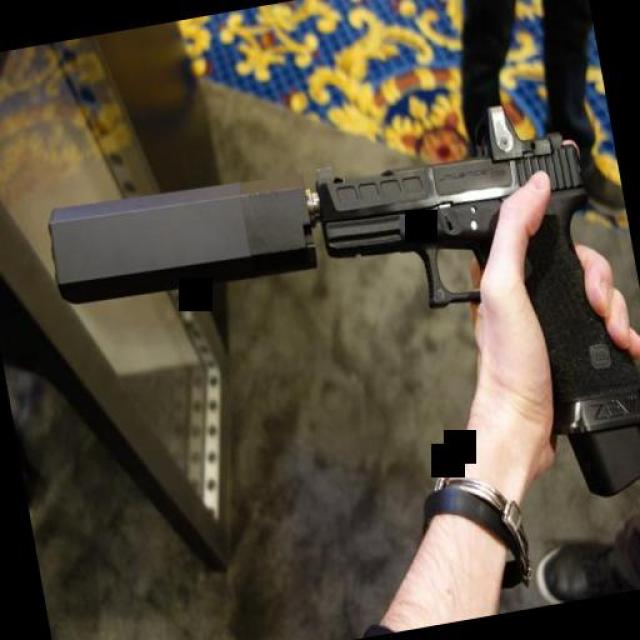gun: (300, 84, 640, 535)
